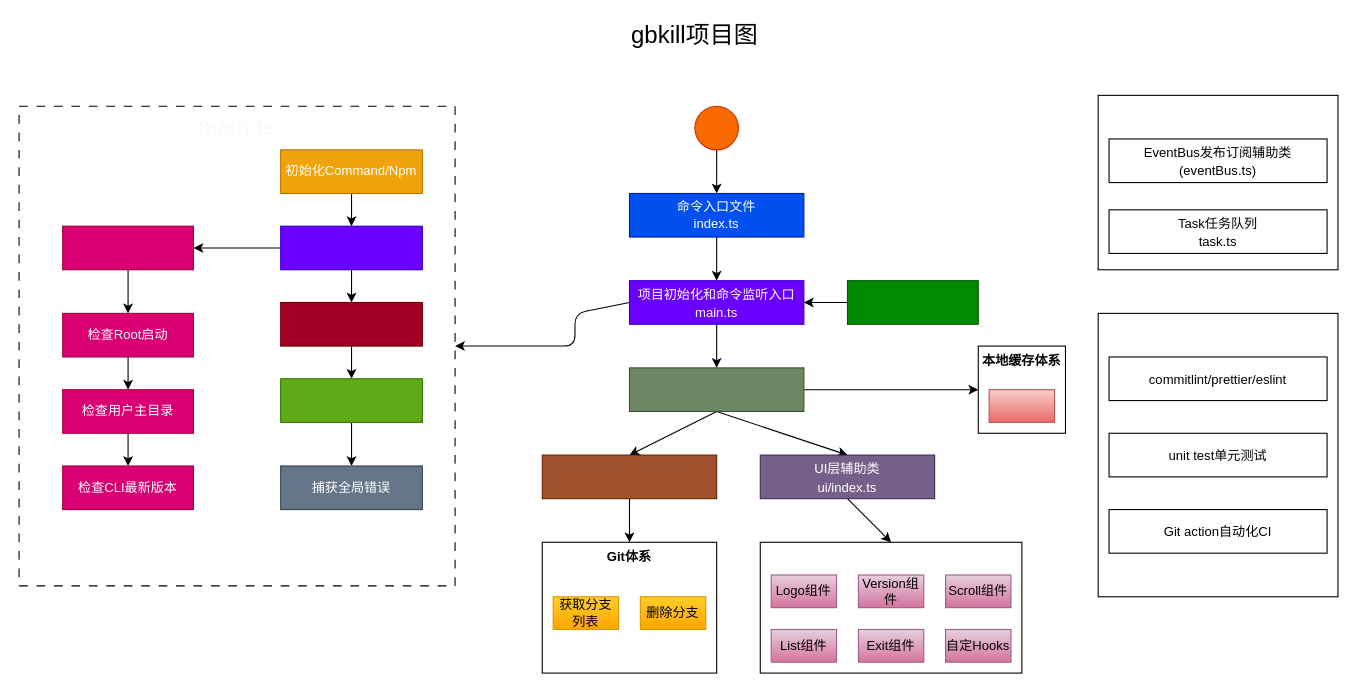
This 1357x692 diagram has some shape labels left out. Here are the shapes that lost their labels. From the top down, the box of each, then its label:
(694, 105, 738, 150): start
(1097, 94, 1338, 270): 公共类
(62, 225, 193, 270): 检查Node版本
(280, 225, 422, 270): 项目准备阶段
(846, 280, 978, 324): Npm辅助类 npm.ts
(280, 301, 422, 346): 注册脚手架命令
(280, 378, 422, 422): 监听脚手架退出命令
(628, 367, 804, 411): Actions辅助类 actions.ts
(988, 389, 1055, 422): 本地缓存 .gbkill
(1097, 312, 1338, 597): 规范
(541, 454, 717, 499): Git辅助类 git.ts
(759, 541, 1022, 673): UI体系
